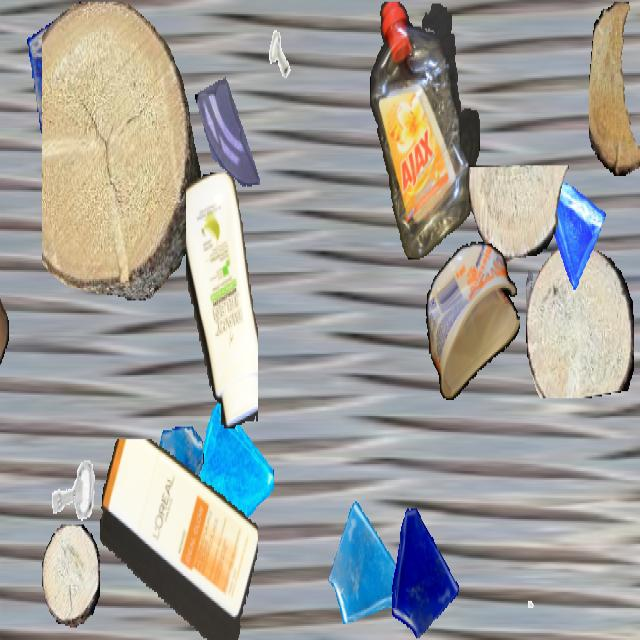glass: (180, 400, 274, 567), (27, 2, 119, 165), (328, 496, 408, 638), (383, 500, 461, 638), (536, 167, 606, 292), (194, 68, 264, 192), (144, 427, 204, 533)
metal: (99, 165, 157, 268), (46, 441, 102, 540), (261, 21, 299, 89), (503, 553, 541, 620)
plastic: (100, 439, 258, 638), (369, 2, 479, 258), (186, 172, 258, 428), (426, 242, 520, 402)
wood: (42, 2, 200, 300), (526, 242, 634, 398), (469, 166, 569, 262), (589, 2, 640, 176), (42, 524, 100, 628), (0, 252, 8, 374)
